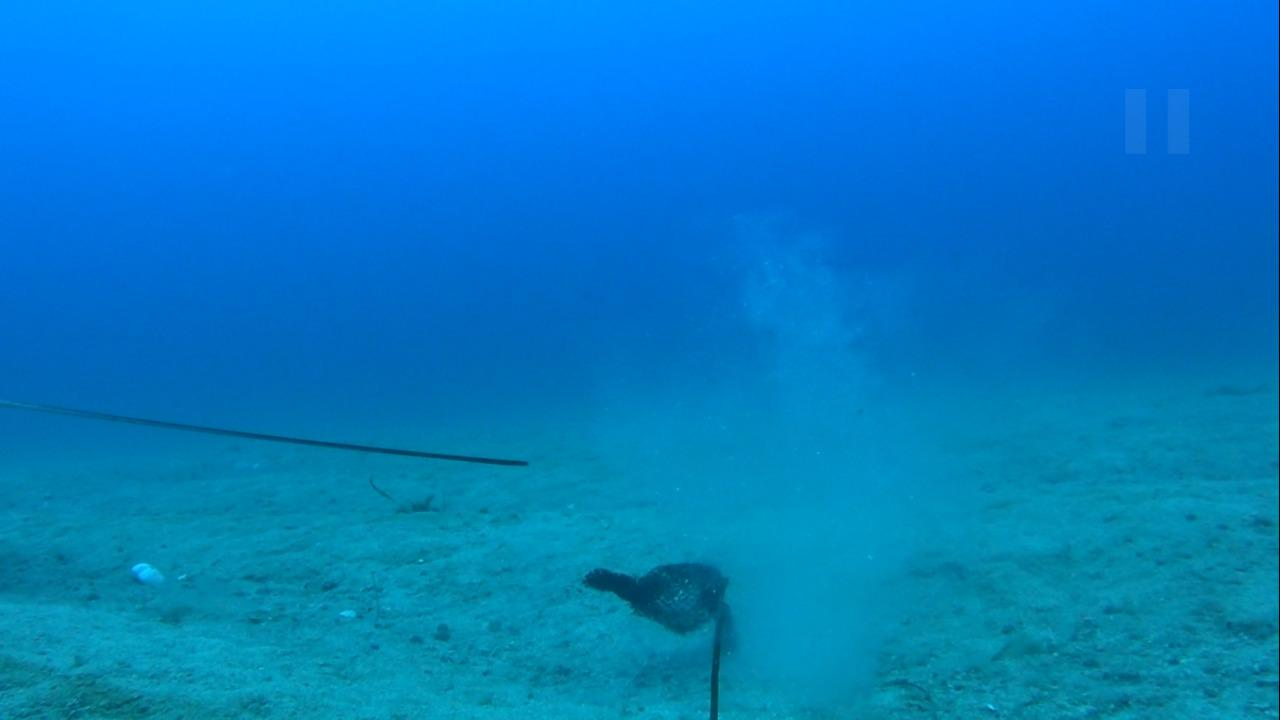myliobatis: (4, 365, 526, 492)
